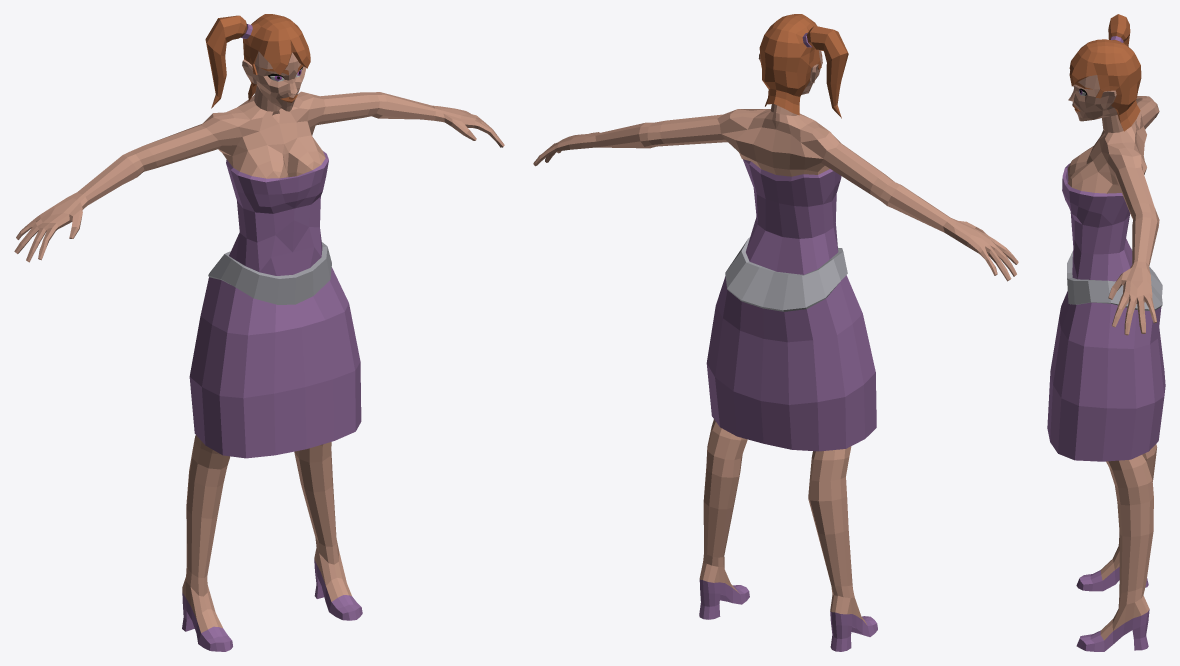
Rendered from Dress_F_2.fbx.
The picture shows the model from 3 angles, left to right: view 1: azimuth 30°, elevation 25°; view 2: azimuth 150°, elevation 25°; view 3: azimuth 270°, elevation 25°; orthographic projection. The views are drawn at different scales.
Parts seen in each view (by area): view 1: Dress_F_2; view 2: Dress_F_2; view 3: Dress_F_2.
Boxes of the visible parts, x1,y1,x2,y2 form: Dress_F_2: (14, 14, 504, 651); Dress_F_2: (533, 14, 1018, 651); Dress_F_2: (1047, 14, 1165, 651).
Size of the model in its own units: 149 by 181 by 33.41.
1 material, 1 textured.
